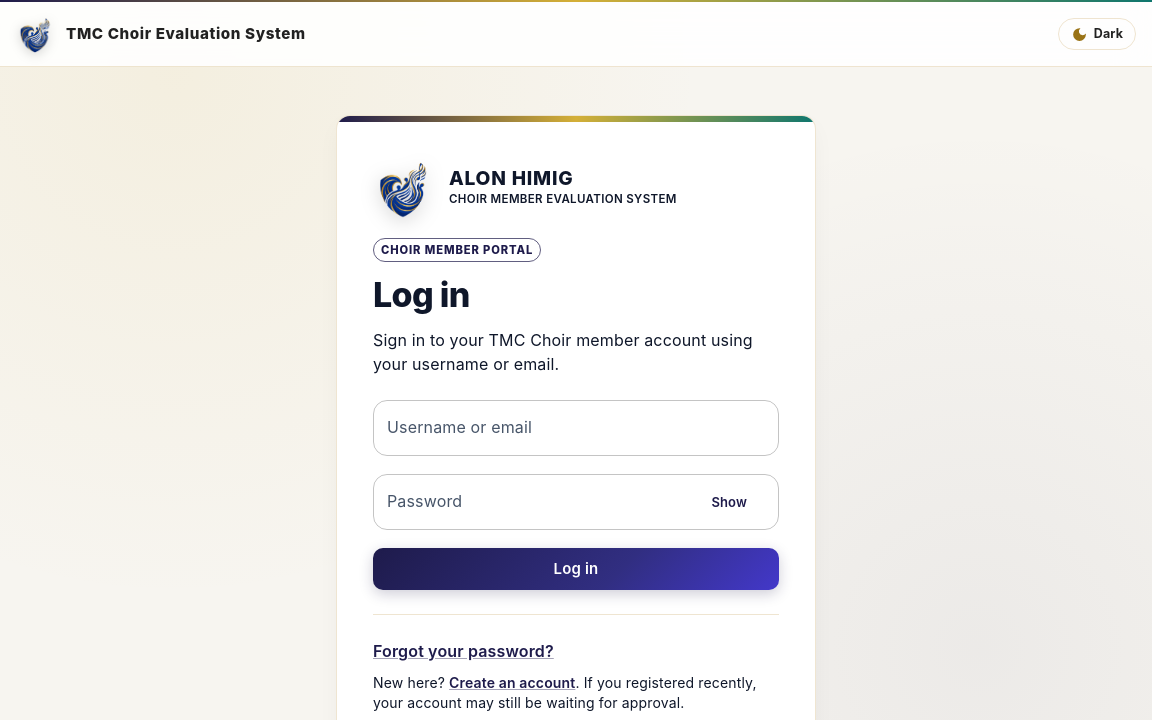
LoginPage › toggles between light mode and dark mode from the header
Click the button with aria-label "switch to dark mode" at (1097, 34), box [1058,18,1136,50]
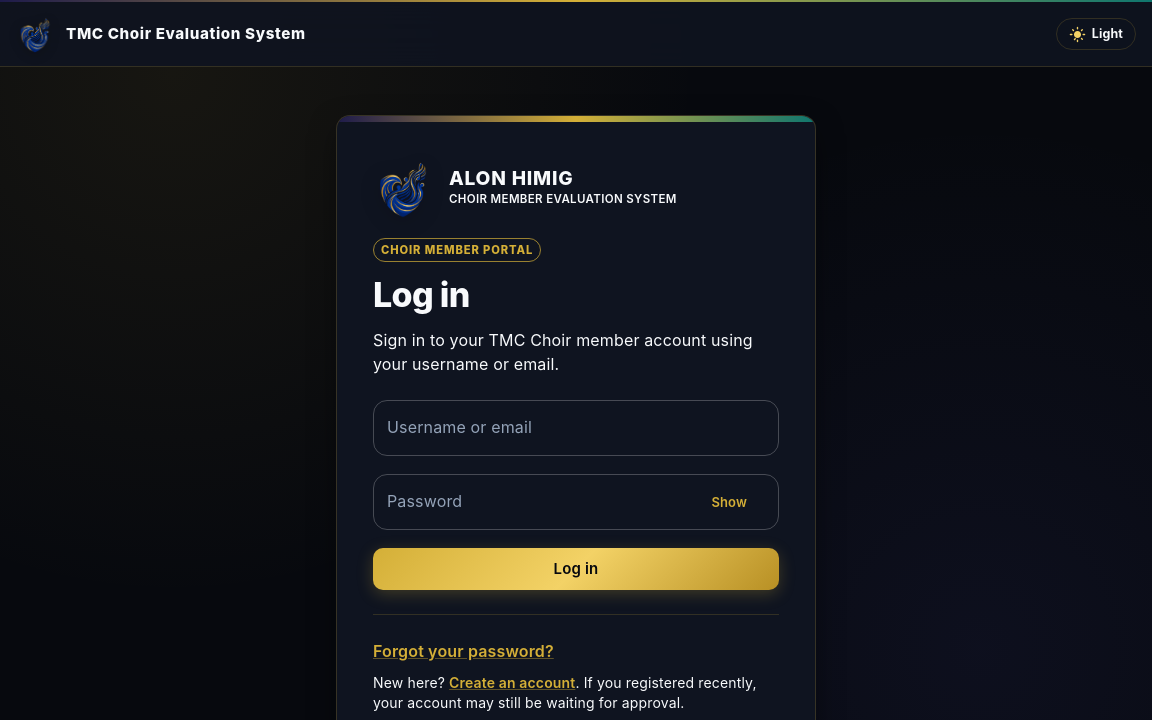
Expected: the button with aria-label "switch to light mode" is shown, [1056,18,1136,50]
